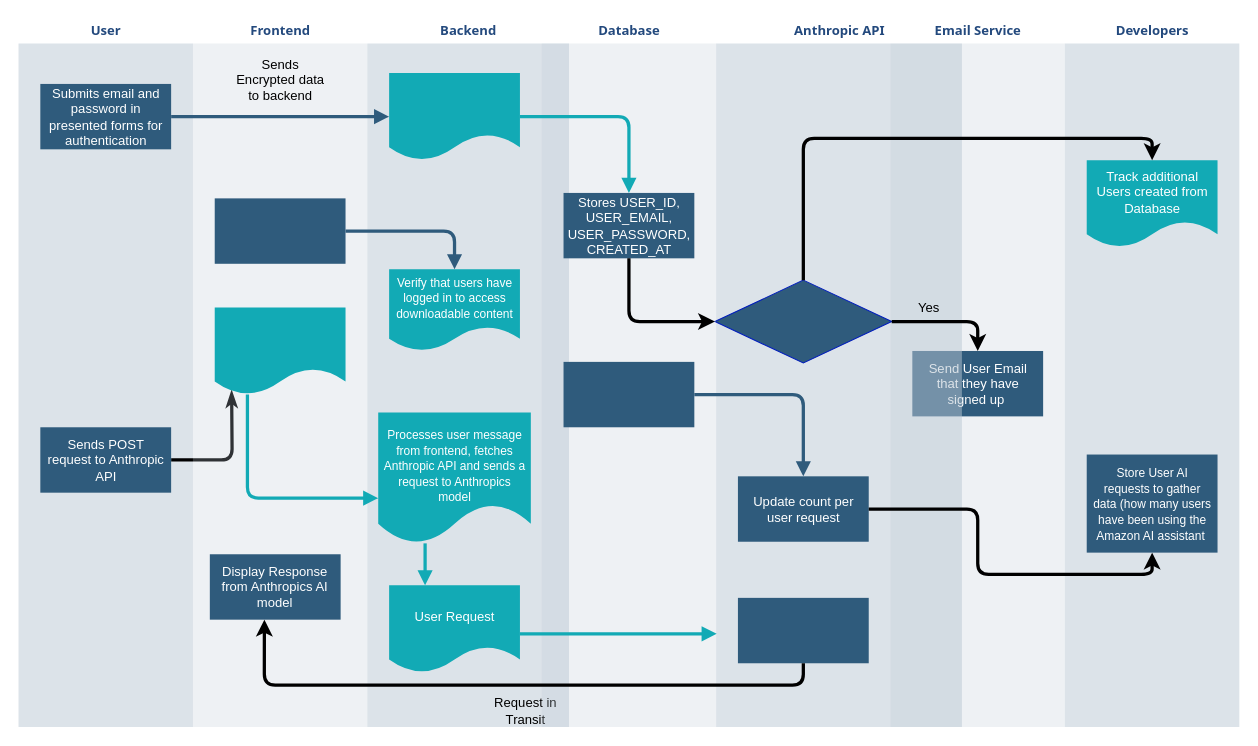
Image size: 1258x746. Some labels were removed from this diagram. Each missing label, with the box of its shape:
Downloadable Content: (214, 198, 345, 263)
Is user new?: (714, 279, 892, 363)
Process Request: (737, 597, 868, 663)
Processes user message and sends to backend: (214, 307, 345, 394)
Store Number of User Amazon AI requests in Database: (563, 361, 694, 427)
Validates login credentials and sends to Database: (389, 72, 519, 160)
